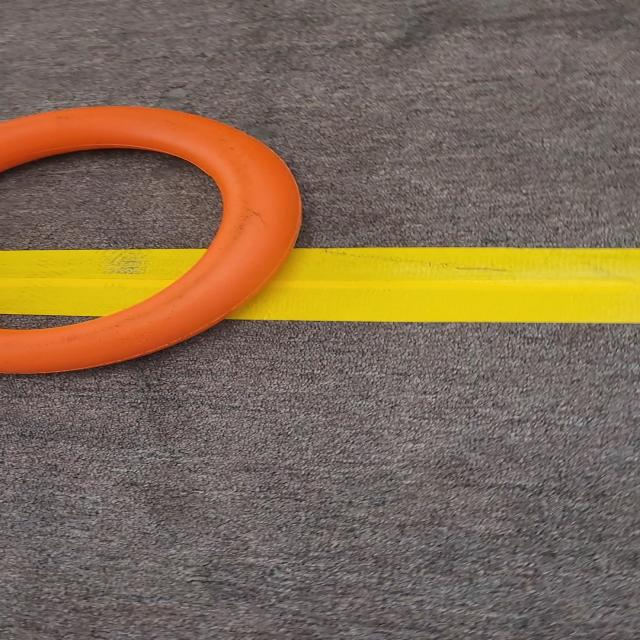note: (0, 104, 318, 381)
